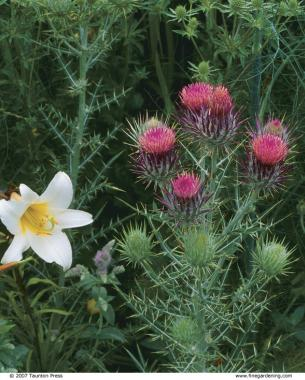thistle: (118, 115, 186, 188), (174, 81, 239, 151), (244, 127, 294, 199), (166, 168, 215, 226)
